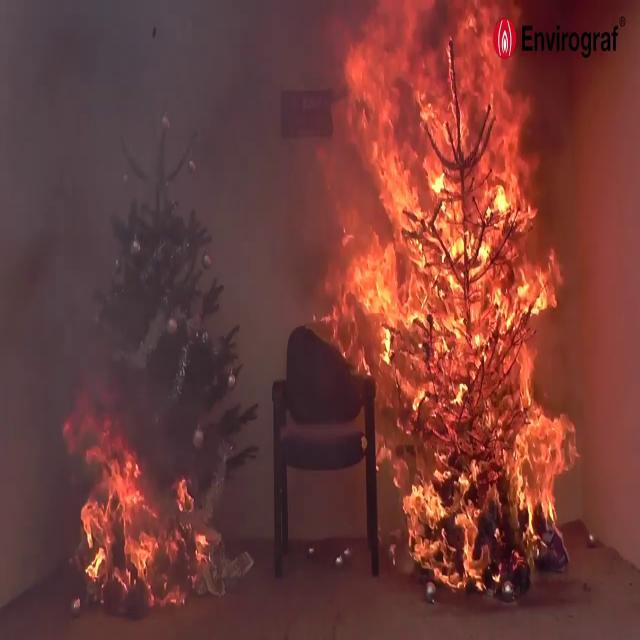Fire: (298, 0, 572, 603), (46, 404, 196, 624)
Smoke: (0, 7, 305, 422)
